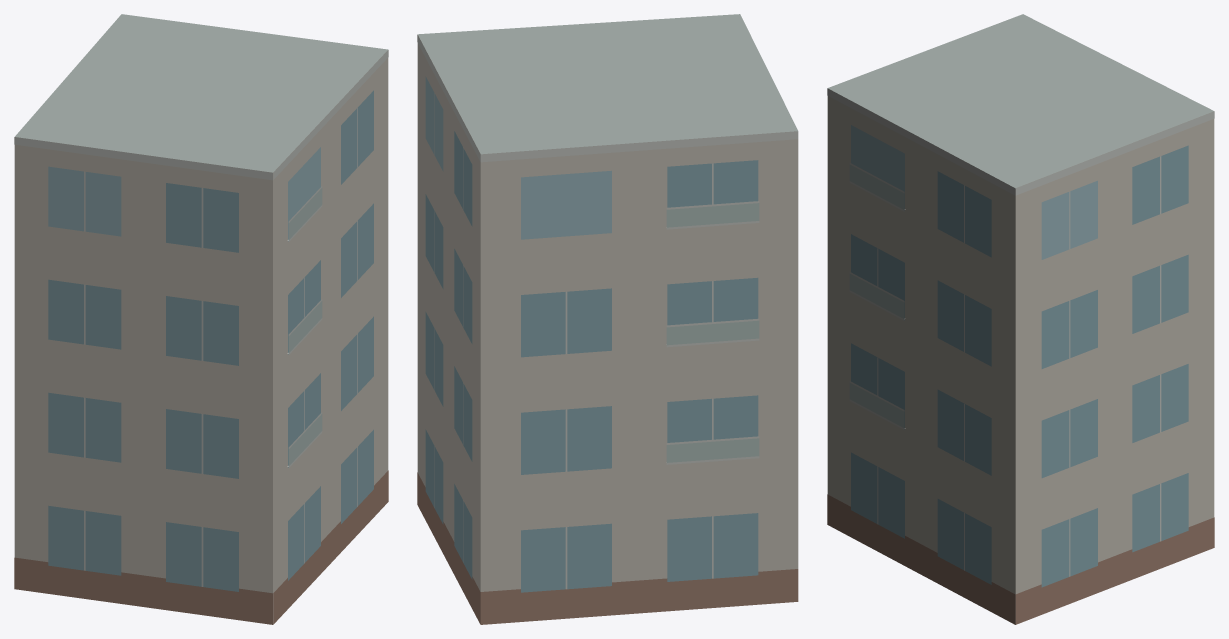
The model's file is survey-upis-32962865.glb.
3 renders of one model, left to right at view 1: azimuth 30°, elevation 25°; view 2: azimuth 150°, elevation 25°; view 3: azimuth 270°, elevation 25°, orthographic. The views are drawn at different scales.
Parts seen in each view (by area): view 1: survey-upis-32962865.tmp; view 2: survey-upis-32962865.tmp; view 3: survey-upis-32962865.tmp.
Boxes of the visible parts, bbox=[...] form: survey-upis-32962865.tmp: bbox=[14, 14, 388, 624]; survey-upis-32962865.tmp: bbox=[417, 14, 798, 624]; survey-upis-32962865.tmp: bbox=[827, 14, 1214, 624].
Bounding box in the file's own units: 12.25 × 14.3 × 11.5.
